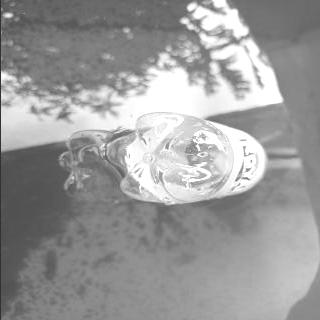bottle: (101, 110, 270, 206)
